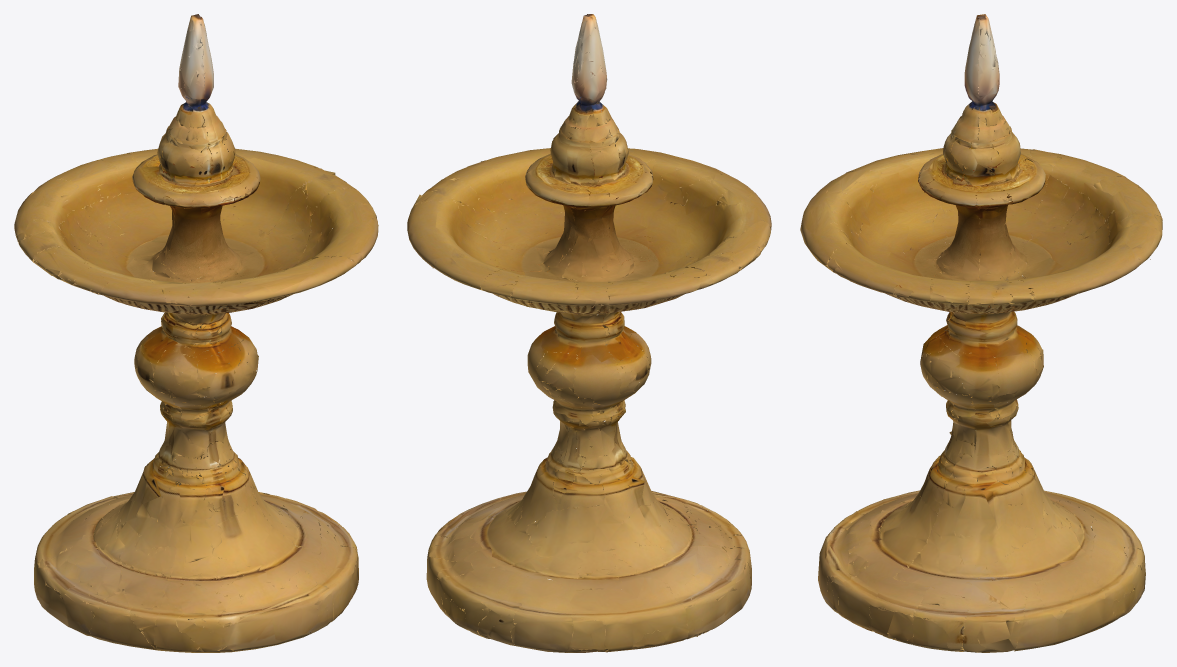
File: golden_oil.glb
The picture shows the model from 3 angles, left to right: view 1: azimuth 30°, elevation 25°; view 2: azimuth 150°, elevation 25°; view 3: azimuth 270°, elevation 25°; orthographic projection.
Parts seen in each view (by area): view 1: Object_4, Object_5, Object_6; view 2: Object_4, Object_5, Object_6; view 3: Object_4, Object_5, Object_6.
Boxes of the visible parts, x1,y1,x2,y2 form: Object_4: (16,14,377,652); Object_5: (14,17,371,624); Object_6: (59,142,378,652); Object_4: (413,14,770,651); Object_5: (407,14,757,652); Object_6: (461,133,771,593); Object_4: (800,14,1162,652); Object_5: (902,17,1162,651); Object_6: (826,136,953,650).
Size of the model in its own units: 1.1 by 1.9 by 1.1.
1 material, 1 textured.
